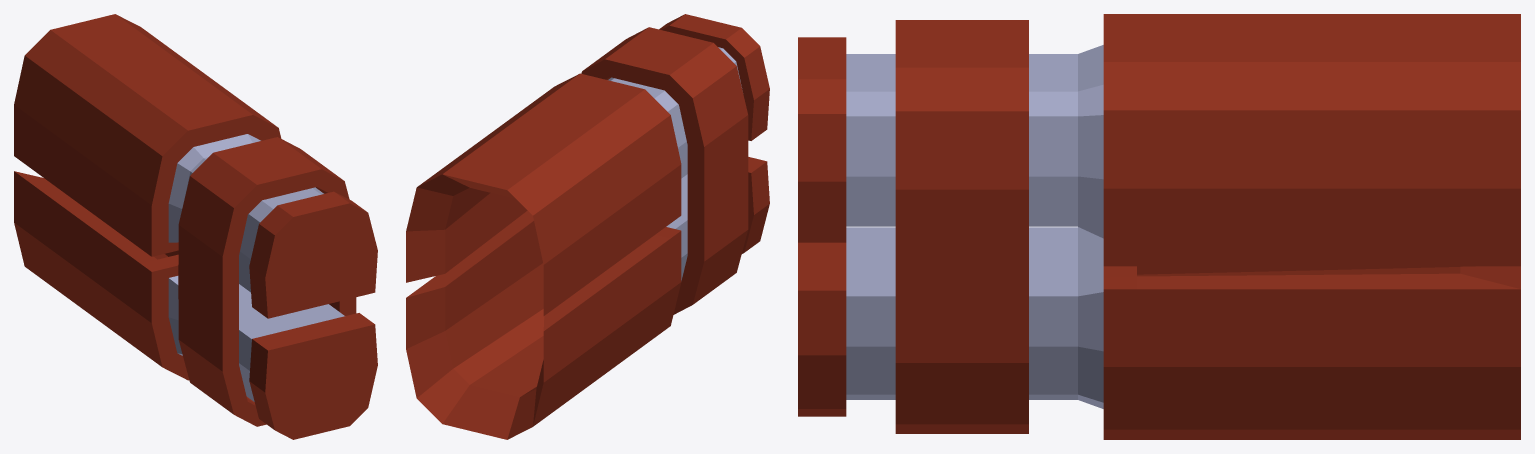
The model's file is laserCannon.fbx.
3 views of the same model, side by side, from view 1: azimuth 30°, elevation 25°; view 2: azimuth 150°, elevation 25°; view 3: azimuth 270°, elevation 25° (orthographic). The views are drawn at different scales.
Parts seen in each view (by area): view 1: cannon; view 2: cannon; view 3: cannon.
Part boxes in pixels (x1,y1,x2,y2): cannon: (14, 14, 377, 439); cannon: (406, 14, 769, 439); cannon: (798, 14, 1520, 439).
Size of the model in its own units: 39.42 by 68.39 by 119.
